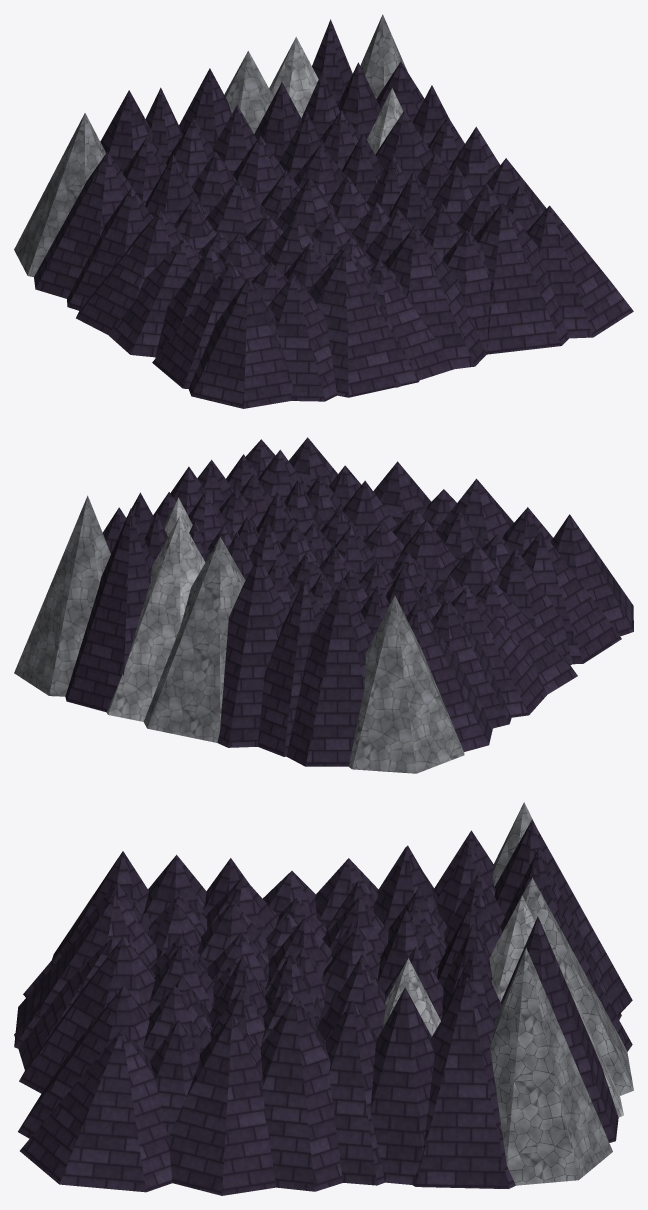
Rendered from chunk_0_23.glb.
3 renders of one model, top to bottom at view 1: azimuth 30°, elevation 25°; view 2: azimuth 150°, elevation 25°; view 3: azimuth 270°, elevation 25°, orthographic. The views are drawn at different scales.
Parts seen in each view (by area): view 1: chunk_0_23; view 2: chunk_0_23; view 3: chunk_0_23.
Boxes of the visible parts, x1,y1,x2,y2 form: chunk_0_23: [14, 14, 633, 408]; chunk_0_23: [14, 437, 633, 773]; chunk_0_23: [14, 802, 633, 1195].
Size of the model in its own units: 21.21 by 7.84 by 21.24.
7 materials, 7 textured.
